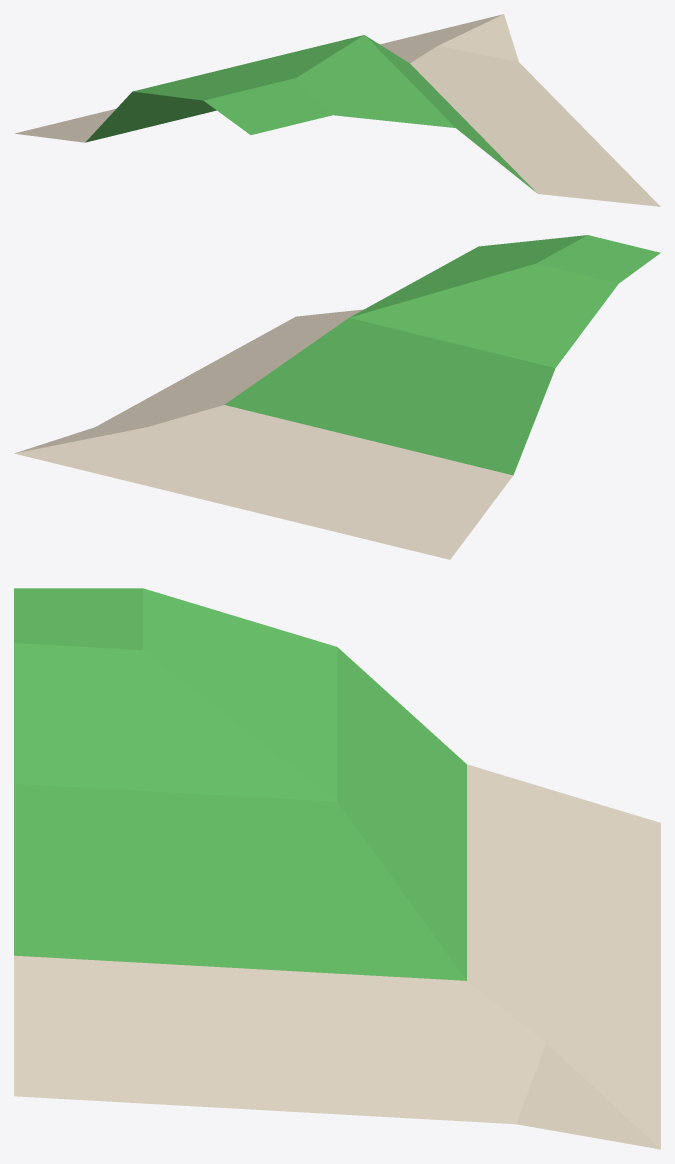
The model's file is Hilly_Terrain_Path_Corner_Y_2x2.glb.
3 renders of one model, top to bottom at view 1: azimuth 30°, elevation 25°; view 2: azimuth 150°, elevation 25°; view 3: azimuth 270°, elevation 25°, orthographic. The views are drawn at different scales.
Visible parts, largest first — view 1: Hilly_Terrain_Path_Corner_Y_2x2; view 2: Hilly_Terrain_Path_Corner_Y_2x2; view 3: Hilly_Terrain_Path_Corner_Y_2x2.
Part boxes in pixels (left/top/right/bottom): Hilly_Terrain_Path_Corner_Y_2x2: left=15, top=14, right=660, bottom=206; Hilly_Terrain_Path_Corner_Y_2x2: left=14, top=235, right=660, bottom=559; Hilly_Terrain_Path_Corner_Y_2x2: left=14, top=588, right=660, bottom=1149.
Bounding box in the file's own units: 0.2957 × 0.099 × 0.2475.
